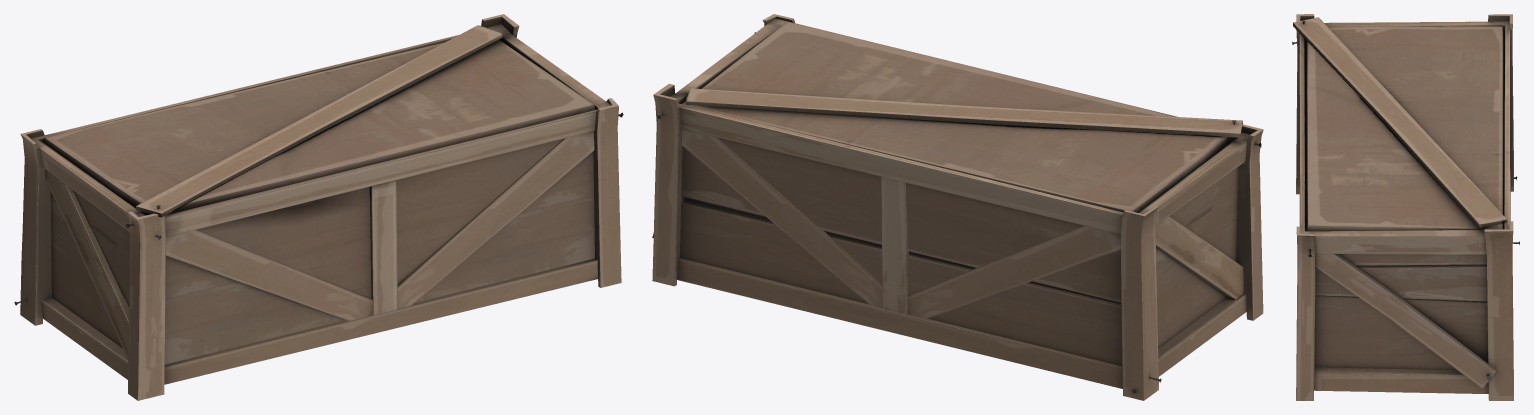
The model's file is barrel_crate.dae.
3 renders of one model, left to right at view 1: azimuth 30°, elevation 25°; view 2: azimuth 150°, elevation 25°; view 3: azimuth 270°, elevation 25°, orthographic. The views are drawn at different scales.
Parts seen in each view (by area): view 1: barrel_crate_03; view 2: barrel_crate_03; view 3: barrel_crate_03.
Boxes of the visible parts, <box> form: barrel_crate_03: <box>14,14,623,400</box>; barrel_crate_03: <box>652,14,1263,400</box>; barrel_crate_03: <box>1292,14,1519,400</box>.
Bounding box in the file's own units: 3.5 × 1.47 × 1.23.
1 material, 1 textured.
